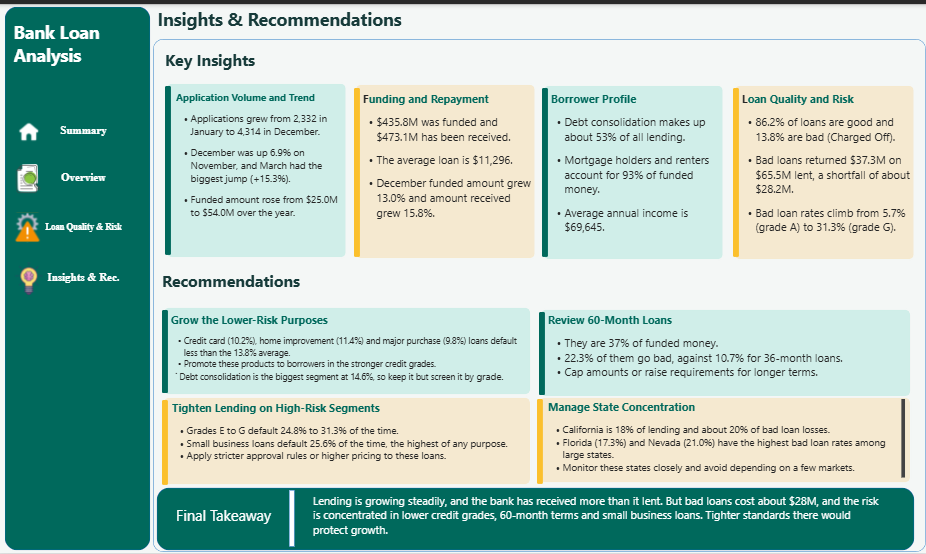

Layout of this report page (visuals, bound fields, positions):
{"tool":"powerbi","page":{"name":"Insights & Recommendations","canvas":[2037,1199],"ordinal":3},"visuals":[{"type":"shape","box":[11,0,326.4,1198.1],"z":0},{"type":"shape","box":[24.4,22.2,302.2,131.1],"z":1000},{"type":"shape","box":[343.9,0,674.6,74.5],"z":2000},{"type":"actionButton","box":[24.1,234.4,302.3,85.4],"z":3000},{"type":"actionButton","box":[24.1,337.3,302.3,85.4],"z":4000},{"type":"actionButton","box":[24.1,444.6,302.3,85.4],"z":5000},{"type":"actionButton","box":[24.1,556.3,302.3,85.4],"z":6000},{"type":"shape","box":[339.5,74.5,1693.1,1123.6],"z":7000},{"type":"shape","box":[365.8,87.6,300.1,65.7],"z":8000},{"type":"shape","box":[365.8,168.7,400,387.7],"z":9000},{"type":"shape","box":[365.8,177.4,13.1,370.2],"z":10000},{"type":"shape","box":[779.8,170.8,400,387.7],"z":11000},{"type":"shape","box":[778.8,180.8,13.1,370.2],"z":12000},{"type":"shape","box":[1191.5,173,400,387.7],"z":13000},{"type":"shape","box":[1191.8,182.1,13.1,370.2],"z":14000},{"type":"shape","box":[1608.9,172.1,400,387.7],"z":15000},{"type":"shape","box":[1609.2,181.1,13.1,370.2],"z":16000},{"type":"shape","box":[359.2,571.7,330.7,65.7],"z":17000},{"type":"shape","box":[359.2,659.3,810.4,197.1],"z":18000},{"type":"shape","box":[359.2,668,13.1,182],"z":19000},{"type":"shape","box":[359.2,856.4,810,197.1],"z":20000},{"type":"shape","box":[359.2,865.2,13.1,186.2],"z":21000},{"type":"shape","box":[1185,663.7,817,197],"z":22000},{"type":"shape","box":[1185,672.4,13.1,182],"z":23000},{"type":"shape","box":[1182.8,856.4,819,192.7],"z":24000},{"type":"shape","box":[1180.6,863,13,186],"z":25000},{"type":"shape","box":[343.9,1053.5,1666.8,144.6],"z":26000},{"type":"textbox","box":[389.9,186.2,370.2,361.4],"z":27000},{"type":"textbox","box":[792.9,188.4,381.1,359.2],"z":28000},{"type":"textbox","box":[1204.7,188.4,381.1,359.2],"z":29000},{"type":"textbox","box":[1623,188.4,378.9,359.2],"z":30000},{"type":"textbox","box":[378.9,672.4,790.7,177.4],"z":31000},{"type":"textbox","box":[381.1,865.2,788.5,184],"z":31001},{"type":"textbox","box":[1204.7,672.4,781.9,177.4],"z":31002},{"type":"textbox","box":[1204.7,863,781.9,177.4],"z":31003},{"type":"textbox","box":[372.4,1086.4,243.1,81],"z":31004},{"type":"shape","box":[637.4,1062.3,12,124],"z":31005},{"type":"textbox","box":[690,1068.9,1241.9,118.3],"z":31006}]}

Visuals, with their boxes in screenshot pixels (x1, y1, x2, y2), scaled from the page's 2037x1199 canvas onto the 926x554 screenshot:
shape: [5, 0, 153, 553]
shape: [11, 10, 148, 71]
shape: [156, 0, 463, 34]
actionButton: [11, 108, 148, 148]
actionButton: [11, 156, 148, 195]
actionButton: [11, 205, 148, 245]
actionButton: [11, 257, 148, 296]
shape: [154, 34, 924, 553]
shape: [166, 40, 303, 71]
shape: [166, 78, 348, 257]
shape: [166, 82, 172, 253]
shape: [354, 79, 536, 258]
shape: [354, 84, 360, 255]
shape: [542, 80, 723, 259]
shape: [542, 84, 548, 255]
shape: [731, 80, 913, 259]
shape: [732, 84, 737, 255]
shape: [163, 264, 314, 295]
shape: [163, 305, 532, 396]
shape: [163, 309, 169, 393]
shape: [163, 396, 532, 487]
shape: [163, 400, 169, 486]
shape: [539, 307, 910, 398]
shape: [539, 311, 545, 395]
shape: [538, 396, 910, 485]
shape: [537, 399, 543, 485]
shape: [156, 487, 914, 553]
textbox: [177, 86, 346, 253]
textbox: [360, 87, 534, 253]
textbox: [548, 87, 721, 253]
textbox: [738, 87, 910, 253]
textbox: [172, 311, 532, 393]
textbox: [173, 400, 532, 485]
textbox: [548, 311, 903, 393]
textbox: [548, 399, 903, 481]
textbox: [169, 502, 280, 539]
shape: [290, 491, 295, 548]
textbox: [314, 494, 878, 549]
